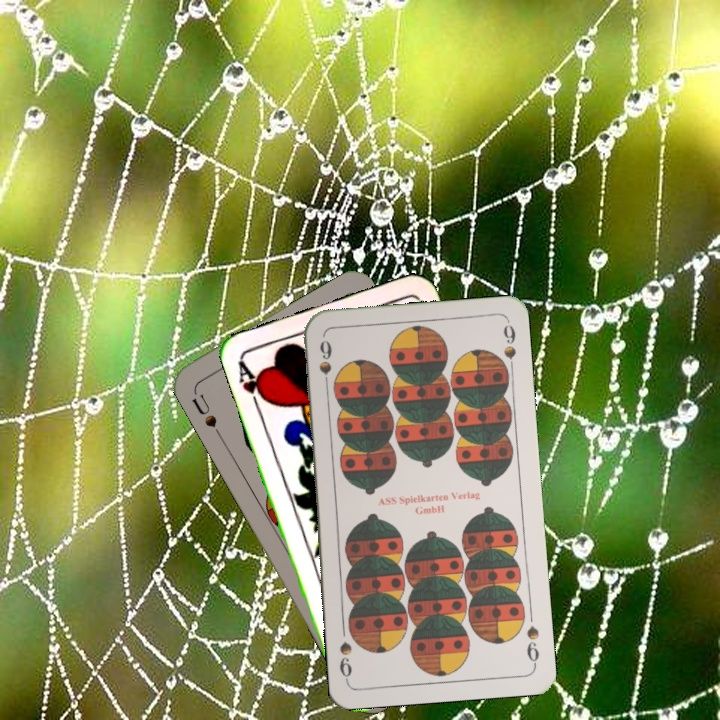HA: (234, 357, 271, 415)
S9: (315, 335, 335, 394), (522, 621, 542, 669)
SU: (188, 386, 224, 440)
